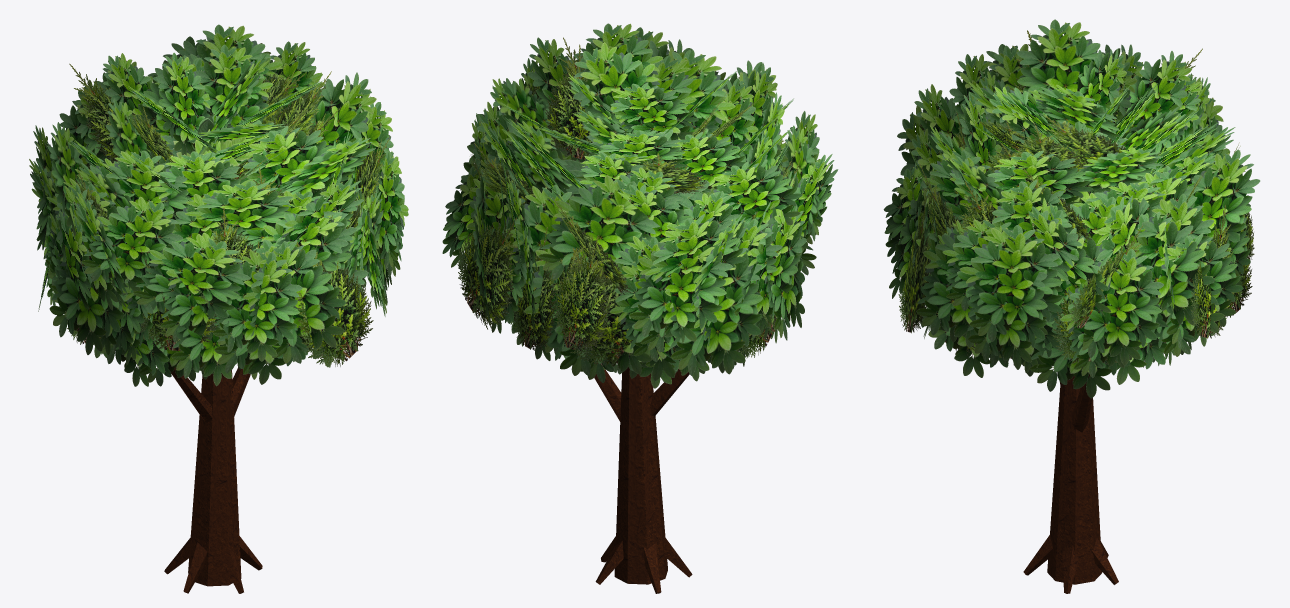
File: tree_broadleaf_01_real.glb
The picture shows the model from 3 angles, left to right: view 1: azimuth 30°, elevation 25°; view 2: azimuth 150°, elevation 25°; view 3: azimuth 270°, elevation 25°; orthographic projection.
Visible parts, largest first — view 1: tree_broadleaf_01; view 2: tree_broadleaf_01; view 3: tree_broadleaf_01.
Part boxes in pixels (x1,y1,x2,y2): tree_broadleaf_01: (29, 24, 408, 593); tree_broadleaf_01: (442, 23, 838, 593); tree_broadleaf_01: (883, 19, 1260, 593).
Size of the model in its own units: 4.6 by 6.7 by 4.61.
2 materials, 2 textured.
